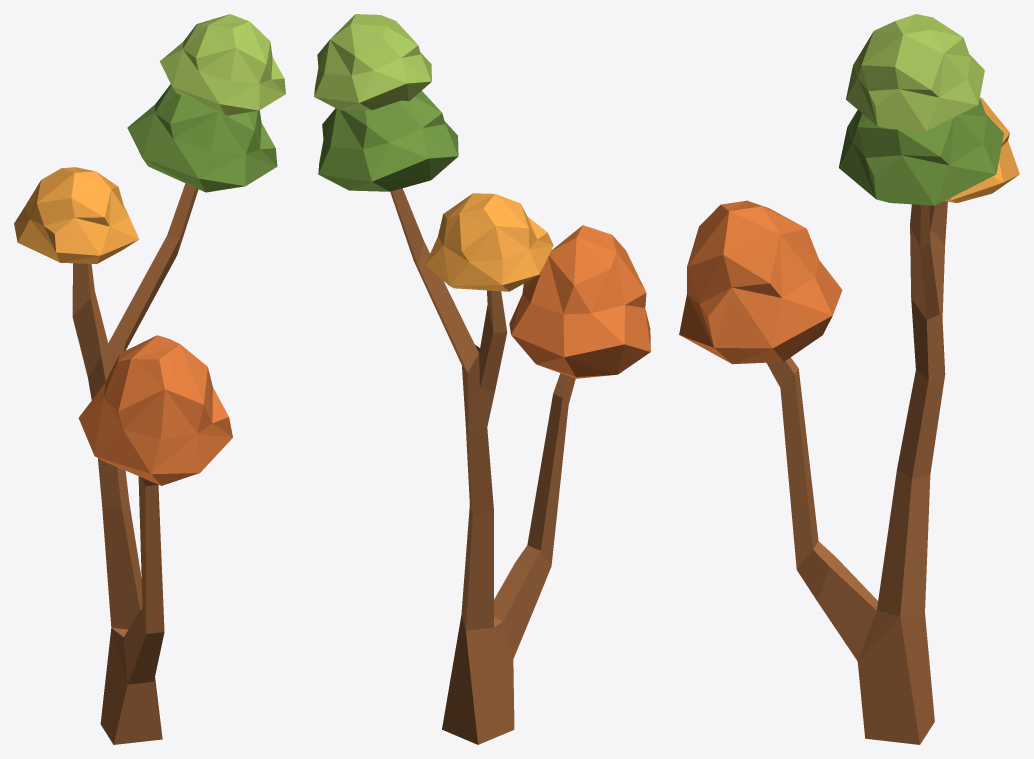
File: Tree_1.fbx
3 views of the same model, side by side, from view 1: azimuth 30°, elevation 25°; view 2: azimuth 150°, elevation 25°; view 3: azimuth 270°, elevation 25° (orthographic). The views are drawn at different scales.
Visible parts, largest first — view 1: M_Tree 1; view 2: M_Tree 1; view 3: M_Tree 1.
Part boxes in pixels (x1,y1,x2,y2): M_Tree 1: [14, 14, 285, 744]; M_Tree 1: [314, 14, 650, 744]; M_Tree 1: [679, 14, 1019, 744].
Bounding box in the file's own units: 100 × 257 × 104.
Materials: 1 (1 with a texture image).
